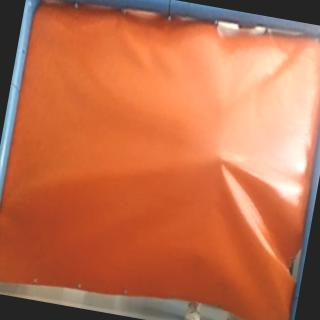Hit-hRxx: (211, 152, 232, 170)
